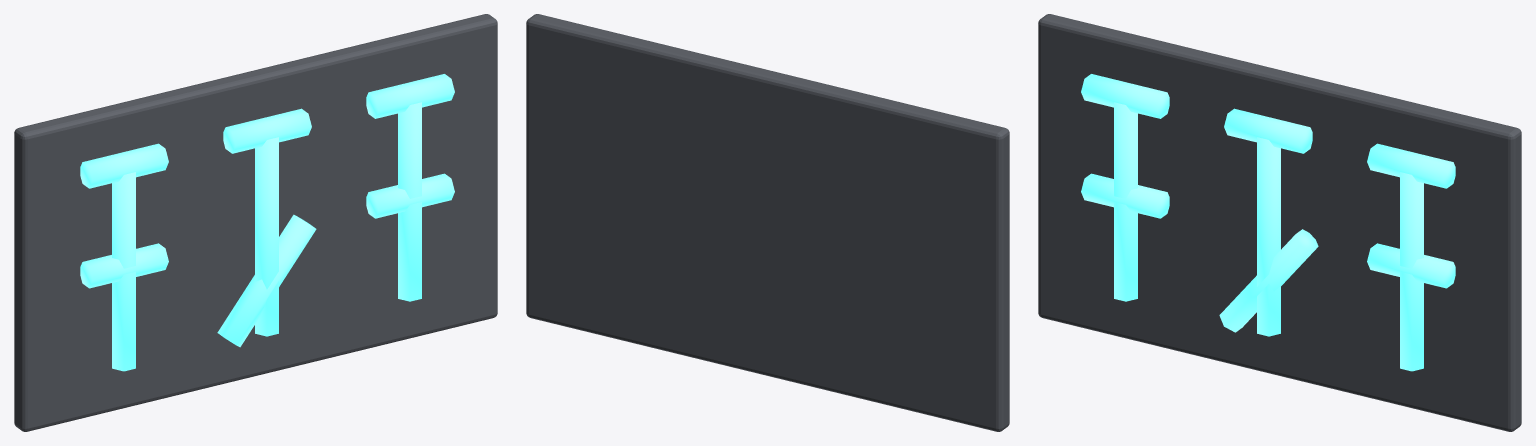
File: neon_sign_glyphs.glb
The picture shows the model from 3 angles, left to right: view 1: azimuth 30°, elevation 25°; view 2: azimuth 150°, elevation 25°; view 3: azimuth 330°, elevation 25°; orthographic projection.
Parts seen in each view (by area): view 1: GD_neon_sign_glyphs__m0, GD_neon_sign_glyphs__m1; view 2: GD_neon_sign_glyphs__m0; view 3: GD_neon_sign_glyphs__m0, GD_neon_sign_glyphs__m1.
Boxes of the visible parts, box(x1,y1,x2,y2) form: GD_neon_sign_glyphs__m0: box(14, 14, 497, 431); GD_neon_sign_glyphs__m1: box(80, 74, 454, 371); GD_neon_sign_glyphs__m0: box(526, 14, 1009, 431); GD_neon_sign_glyphs__m0: box(1038, 14, 1521, 431); GD_neon_sign_glyphs__m1: box(1081, 74, 1455, 371).
Bounding box in the file's own units: 1 × 0.6 × 0.085.
